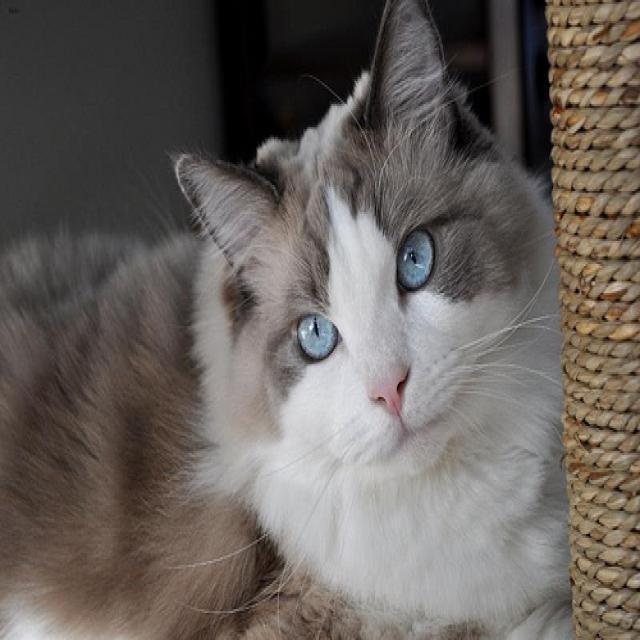Ragdoll: (171, 0, 540, 487)
